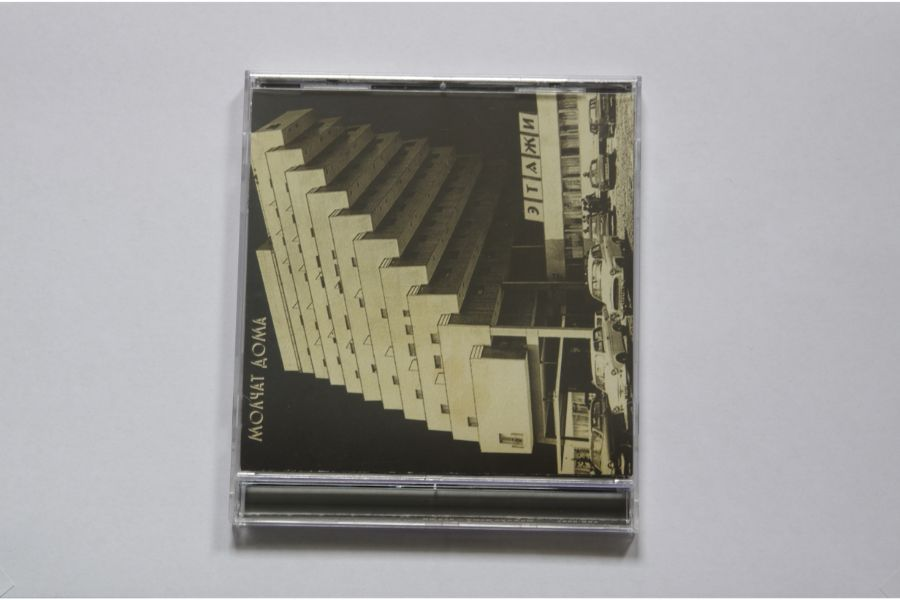album: (227, 70, 640, 539)
